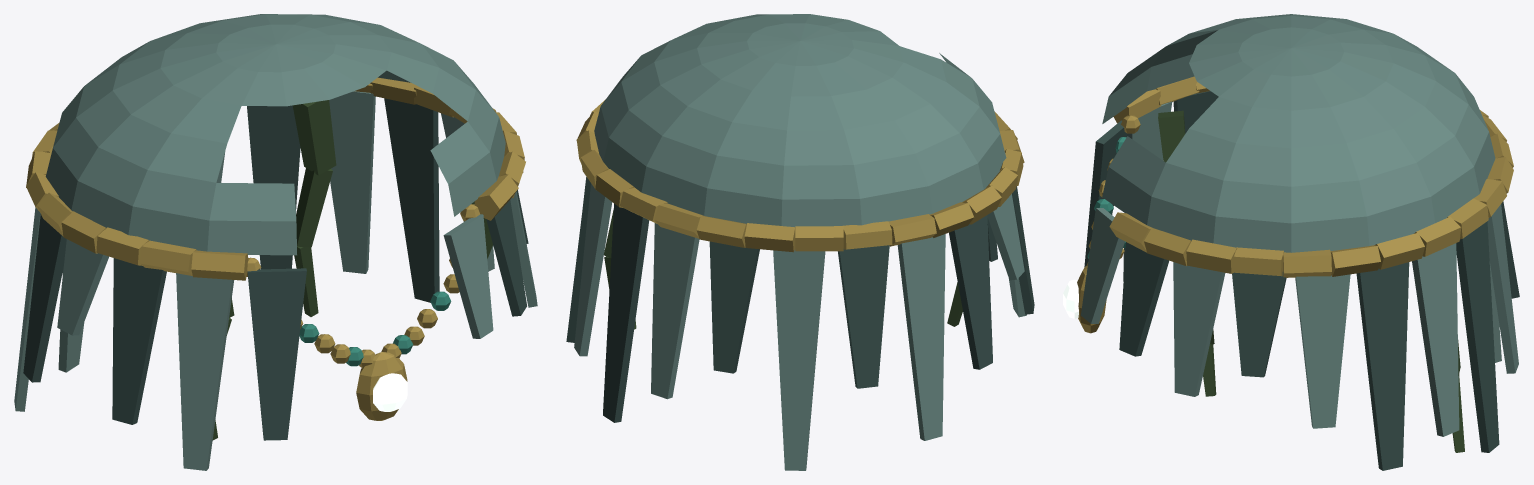
Rendered from sunken_headwoman_shawl.glb.
3 views of the same model, side by side, from view 1: azimuth 30°, elevation 25°; view 2: azimuth 150°, elevation 25°; view 3: azimuth 270°, elevation 25° (orthographic). The views are drawn at different scales.
Parts seen in each view (by area): view 1: sunken_headwoman_shawl; view 2: sunken_headwoman_shawl; view 3: sunken_headwoman_shawl.
Boxes of the visible parts, box(x1,y1,x2,y2) form: sunken_headwoman_shawl: box(14, 14, 537, 470); sunken_headwoman_shawl: box(566, 14, 1034, 470); sunken_headwoman_shawl: box(1063, 14, 1519, 470).
Size of the model in its own units: 1.26 by 0.9809 by 1.14.
